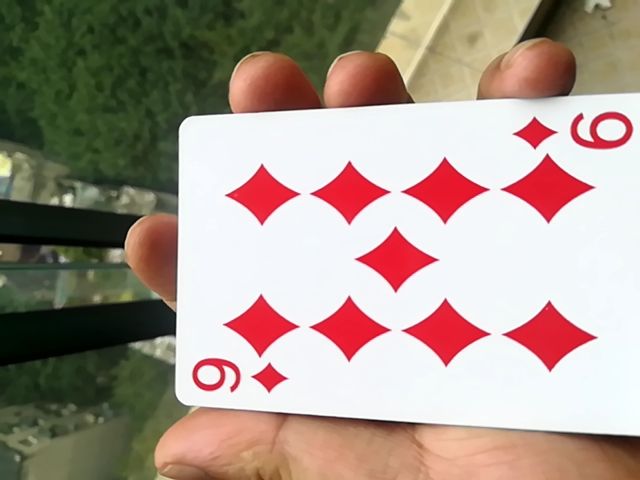fk 9: (164, 102, 635, 443)
